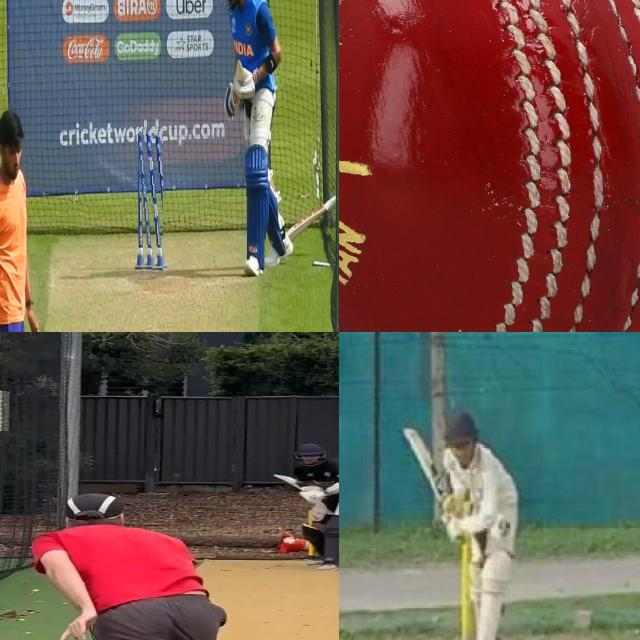Cricket ball: (339, 0, 640, 332), (283, 536, 297, 544), (283, 537, 296, 544)
Stumps: (136, 128, 163, 274)
